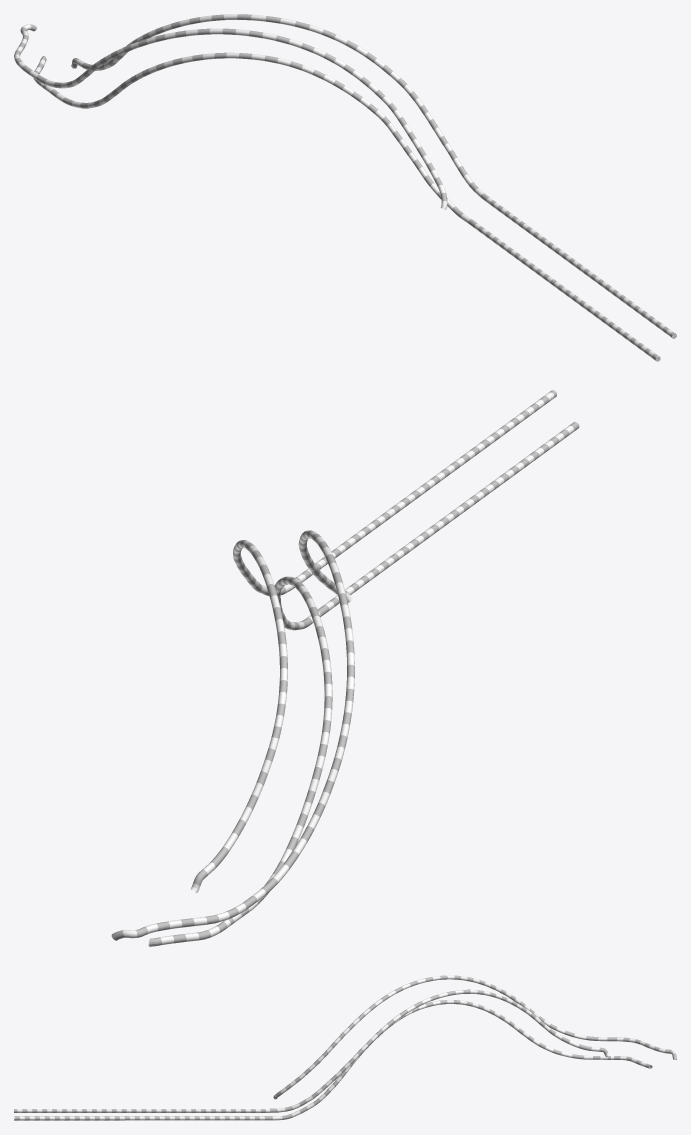
The model's file is Rail_Right_UpperCurve_Start.fbx.
3 renders of one model, top to bottom at view 1: azimuth 30°, elevation 25°; view 2: azimuth 150°, elevation 25°; view 3: azimuth 270°, elevation 25°, orthographic. The views are drawn at different scales.
Visible parts, largest first — view 1: Rail_Right_UpperCurve_Start; view 2: Rail_Right_UpperCurve_Start; view 3: Rail_Right_UpperCurve_Start.
Boxes of the visible parts, box(x1,y1,x2,y2) form: Rail_Right_UpperCurve_Start: box(14, 14, 676, 361); Rail_Right_UpperCurve_Start: box(111, 390, 579, 946); Rail_Right_UpperCurve_Start: box(14, 975, 676, 1120).
Size of the model in its own units: 341 by 1303 by 218.
1 material, 1 textured.
